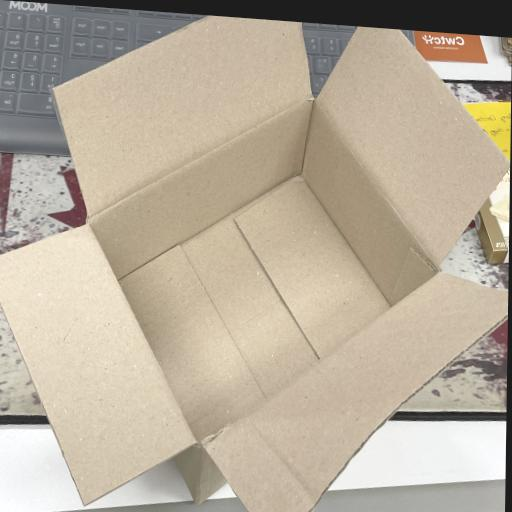box: (1, 1, 512, 511)
opened: (1, 1, 512, 511)
